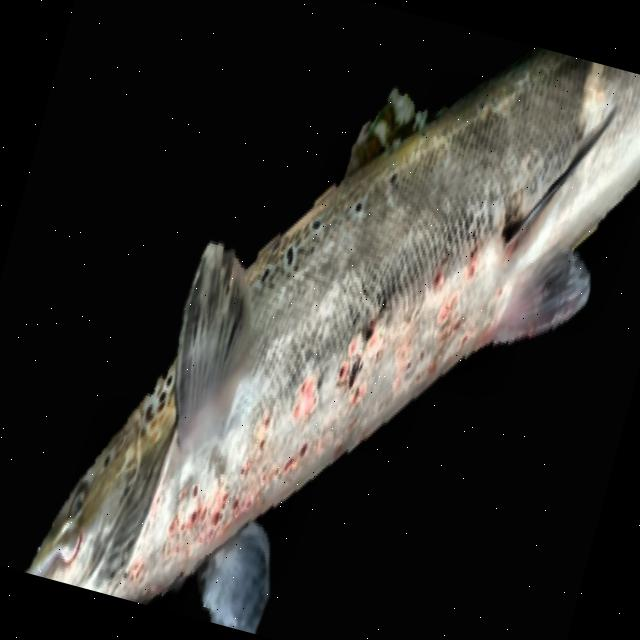mild_red: (29, 48, 640, 602)
